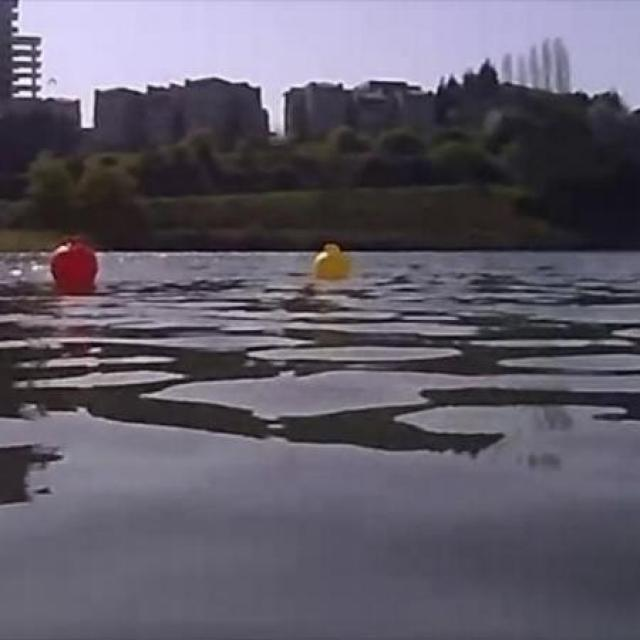buoy: (56, 239, 95, 283), (314, 245, 346, 274)
